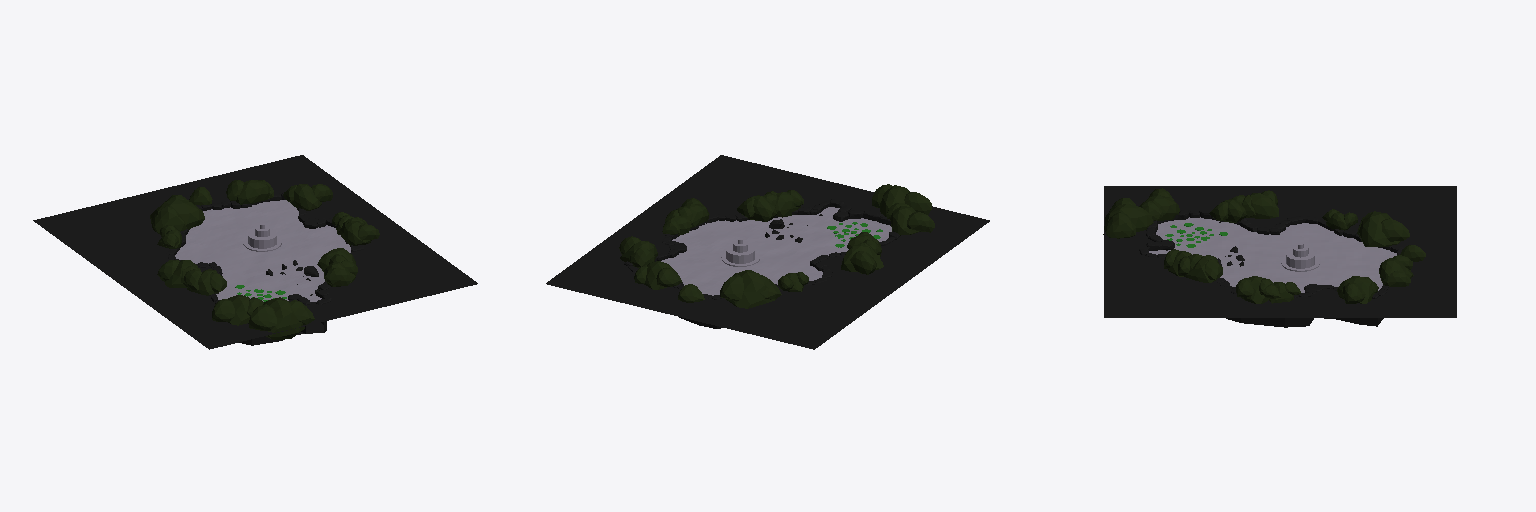
Rendered from World.obj.
3 renders of one model, left to right at view 1: azimuth 30°, elevation 25°; view 2: azimuth 150°, elevation 25°; view 3: azimuth 270°, elevation 25°, orthographic.
Parts seen in each view (by area): view 1: Ground, Bushes, Water, Wall, Fountain_Water; view 2: Ground, Bushes, Water, Wall, Fountain_Water; view 3: Ground, Bushes, Water, Wall, Fountain_Water.
Part boxes in pixels (x1,y1,x2,y2): Ground: (33,155,477,349); Bushes: (150,180,379,339); Water: (175,200,350,301); Wall: (166,193,363,304); Fountain_Water: (243,223,281,251); Ground: (546,155,989,349); Bushes: (619,184,934,308); Water: (661,207,891,295); Wall: (624,199,899,299); Fountain_Water: (721,238,759,266); Ground: (1104,186,1456,327); Bushes: (1103,188,1425,303); Water: (1149,217,1396,292); Wall: (1139,210,1402,298); Fountain_Water: (1281,243,1319,271).
Bounding box in the file's own units: 4.54 × 0.8887 × 5.15.